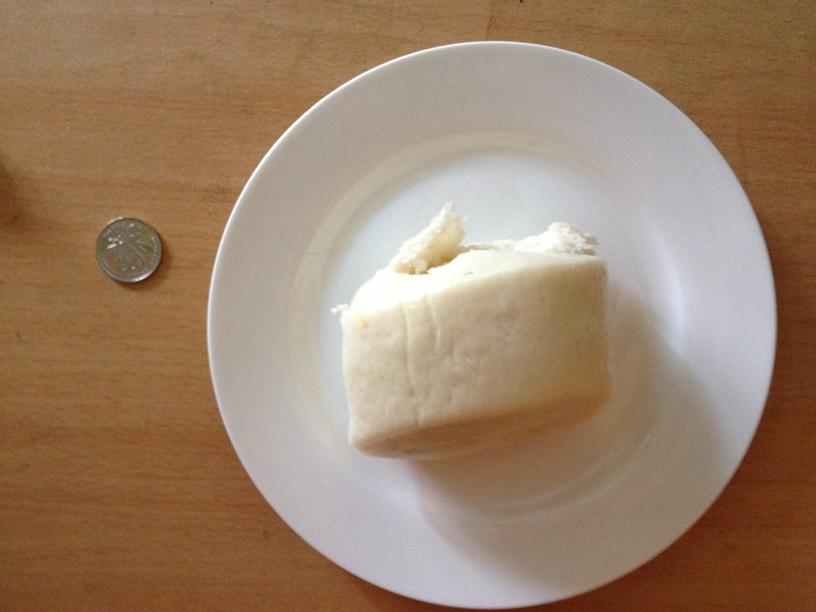bun: (332, 221, 617, 462)
coin: (92, 216, 162, 283)
